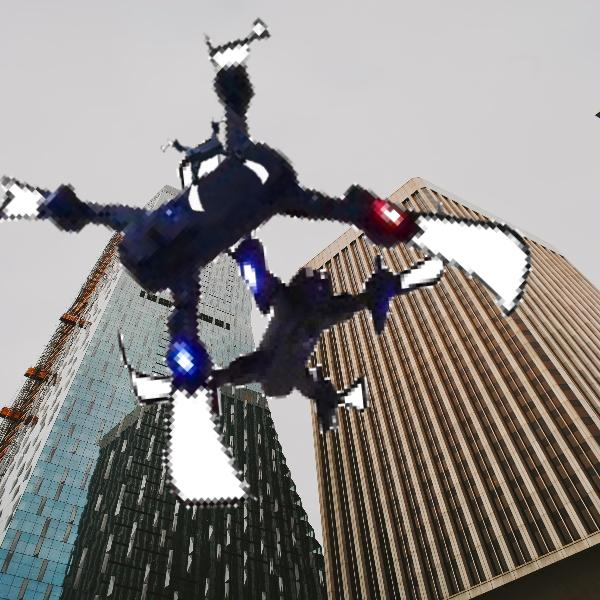drone: (9, 18, 491, 500), (105, 93, 466, 454), (166, 114, 265, 213)
